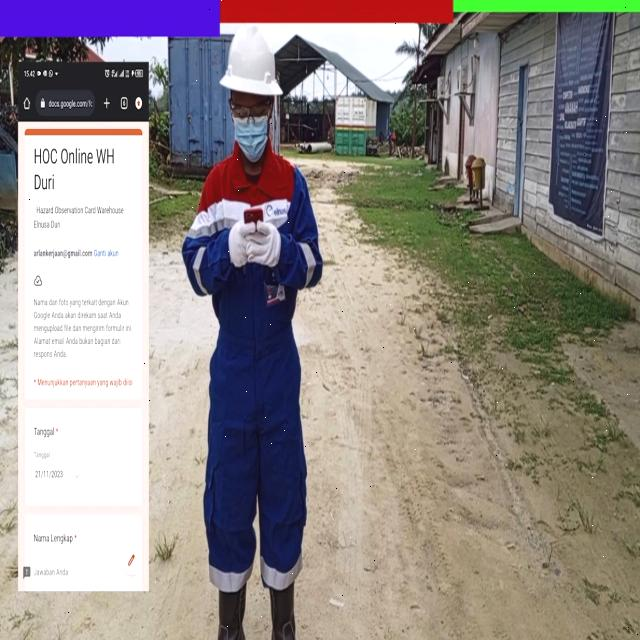Gloves: (245, 222, 278, 271), (226, 218, 252, 269)
Hardhat: (218, 31, 283, 106)
Mask: (233, 113, 268, 161)
Overall Suit: (179, 154, 322, 595)
Safety Boots: (270, 583, 302, 640), (209, 589, 243, 640)
